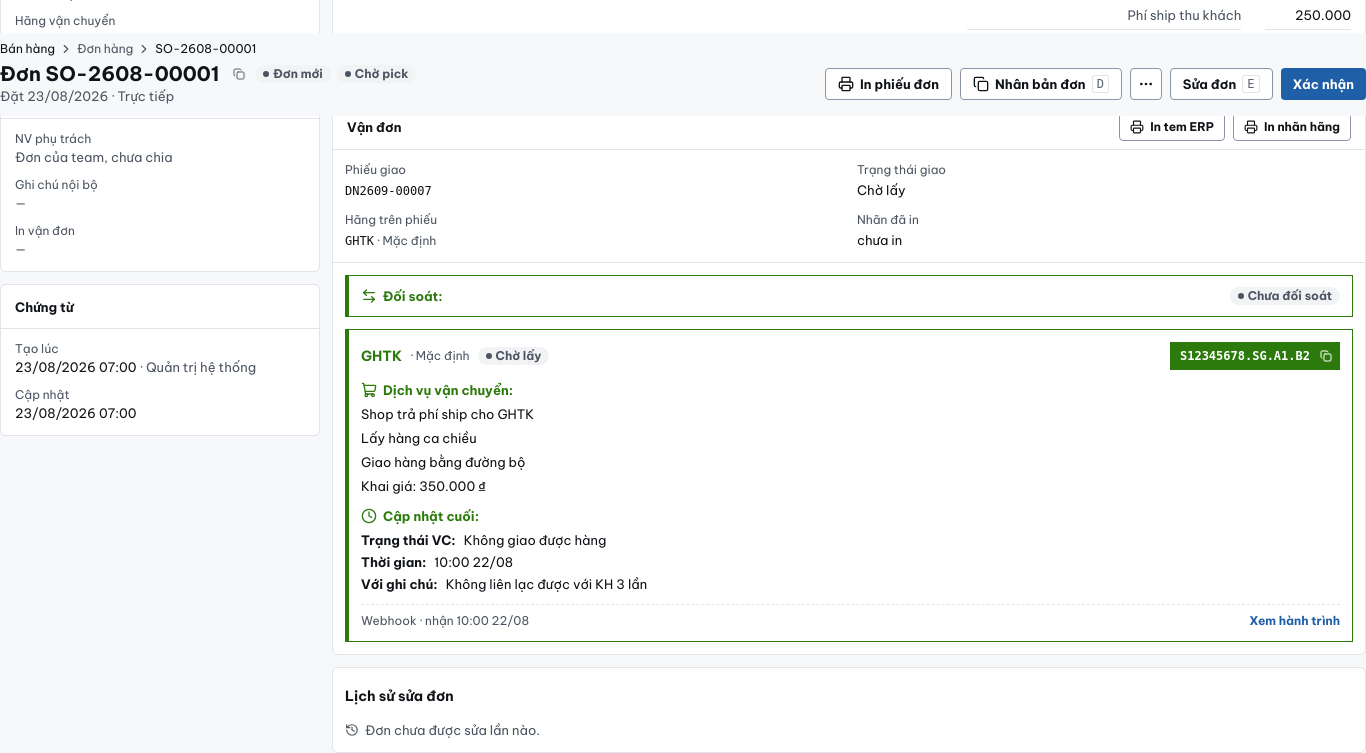
Scenario: OrderDetailScreen — thẻ hãng trên thẻ Vận đơn (2026-10-28) › Dịch vụ + Cập nhật cuối từ order.shipment; "Xem hành trình" chỉ liệt kê mốc đổi trạng thái kèm chữ + vị trí của hãng
(page scrolled)
Expected: the element named "Hãng vận chuyển GHTK" shows "Shop trả phí ship cho GHTK", top-left (361, 406), bottom-right (534, 422)
Expected: the element named "Hãng vận chuyển GHTK" shows "Lấy hàng ca chiều", top-left (361, 430), bottom-right (477, 446)
Click the button "Xem hành trình": point(1295, 620) top-left (1249, 612), bottom-right (1340, 628)
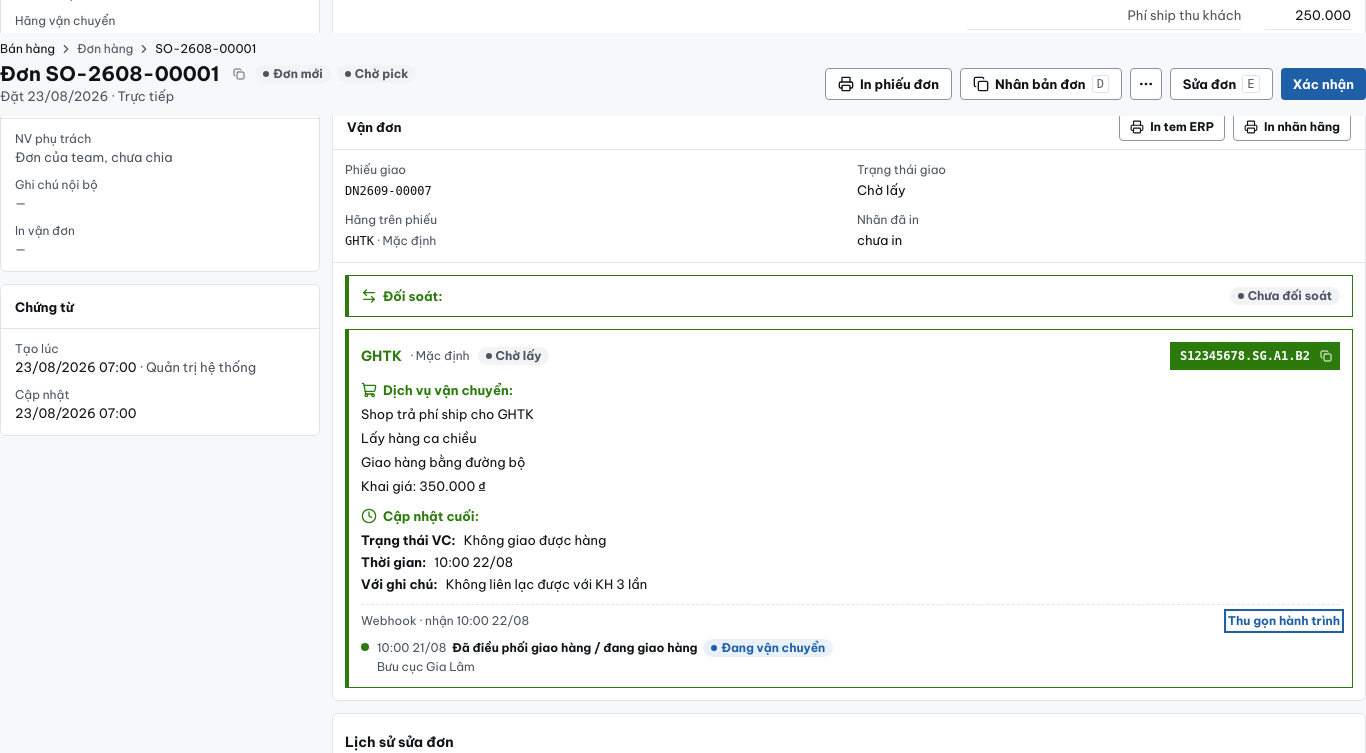
Expected: the list named "Hành trình từ hãng" does not show "45", top-left (361, 638), bottom-right (833, 674)
Expected: the list named "Hành trình từ hãng" shows "Đã điều phối giao hàng / đang giao hàng", top-left (452, 640), bottom-right (697, 654)
Expected: the list named "Hành trình từ hãng" shows "Bưu cục Gia Lâm", top-left (377, 658), bottom-right (475, 674)
